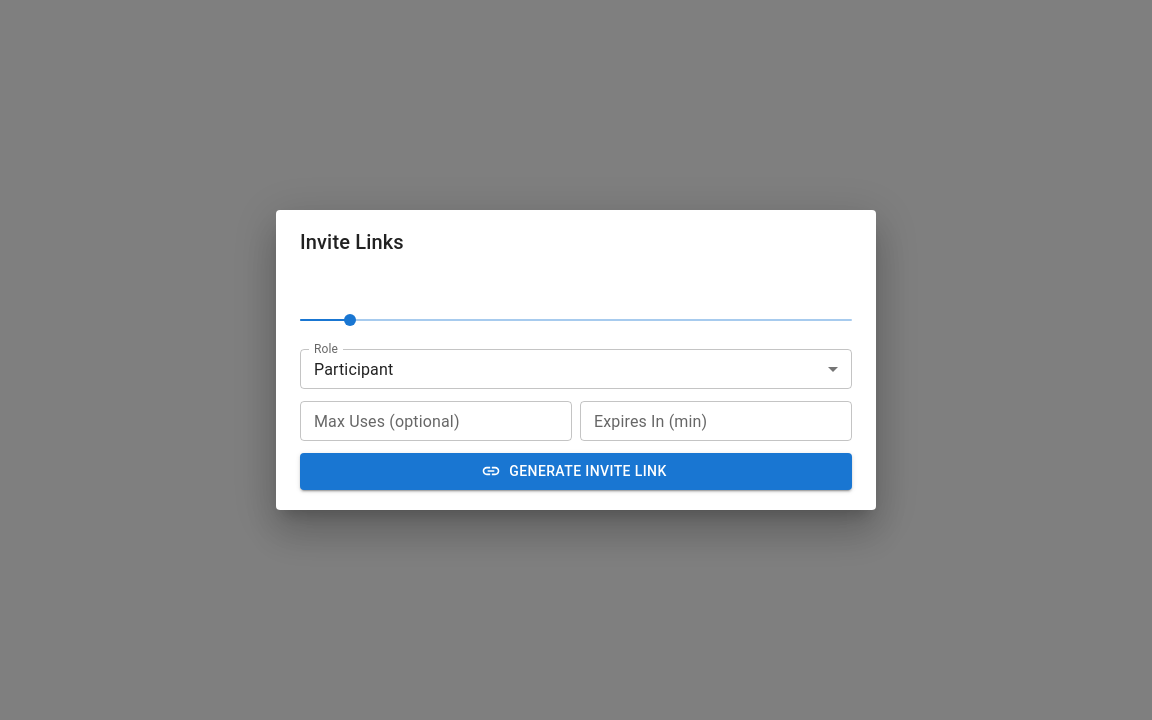
Test case: InviteManager › shows error state on create invite failure
Click the button "Generate Invite Link": (576, 471) [300, 453, 852, 490]
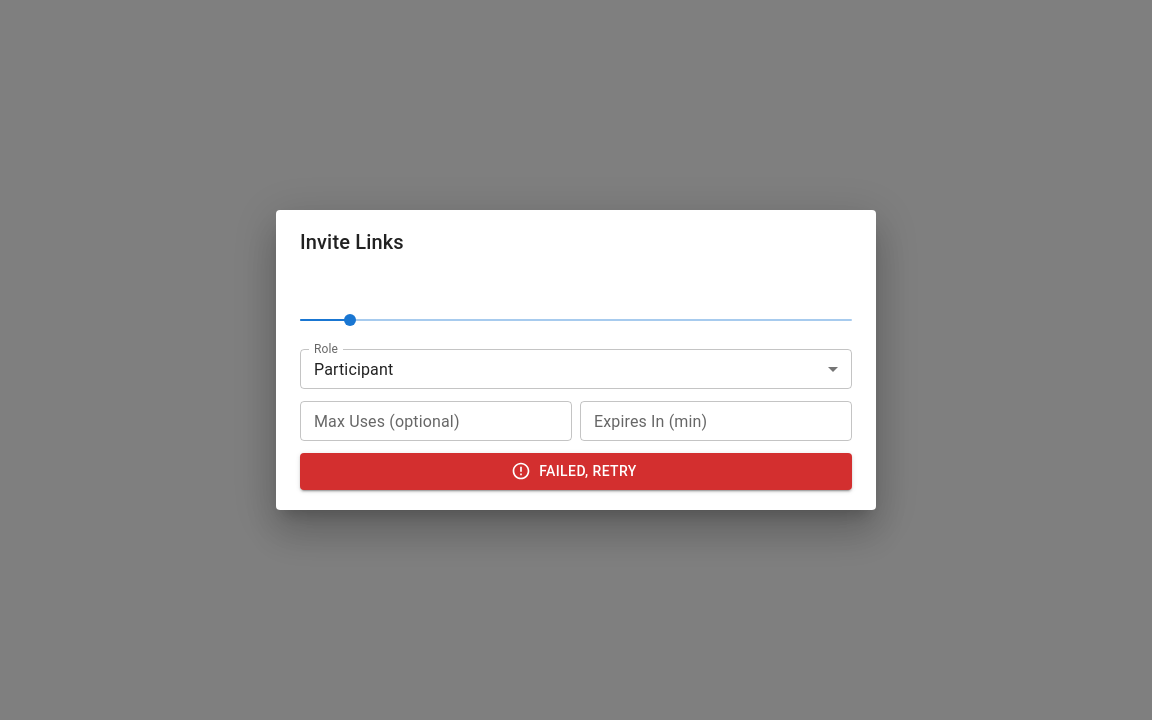
Expected: the button "Failed, Retry" is shown, [300, 453, 852, 490]
